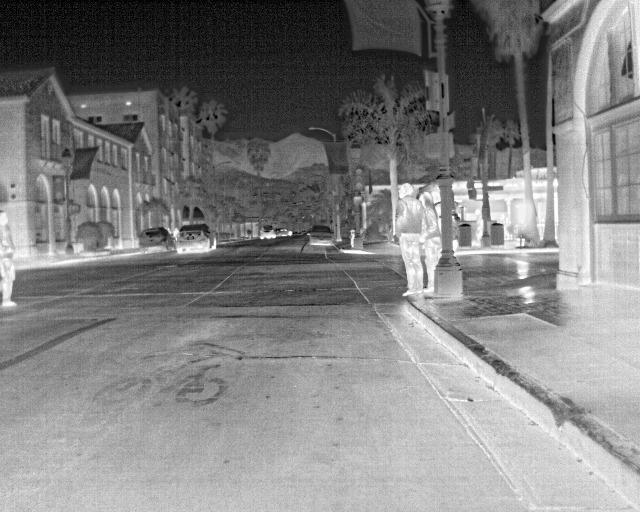bicycle: (175, 223, 220, 254), (137, 227, 174, 254), (307, 221, 338, 248), (257, 223, 276, 239)
empty: (393, 182, 427, 296), (416, 190, 442, 294), (0, 209, 20, 308)
